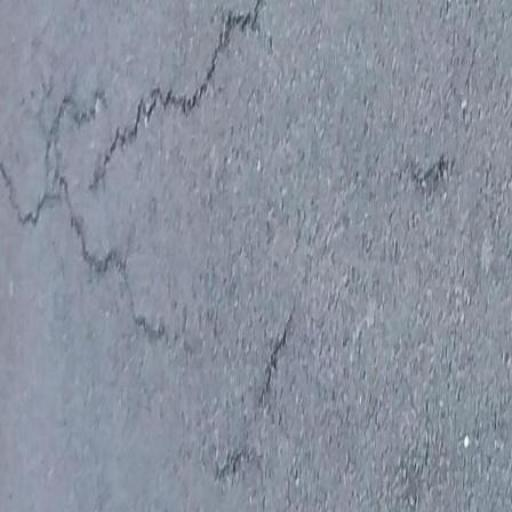spalling: (5, 82, 175, 346), (87, 5, 280, 190)
